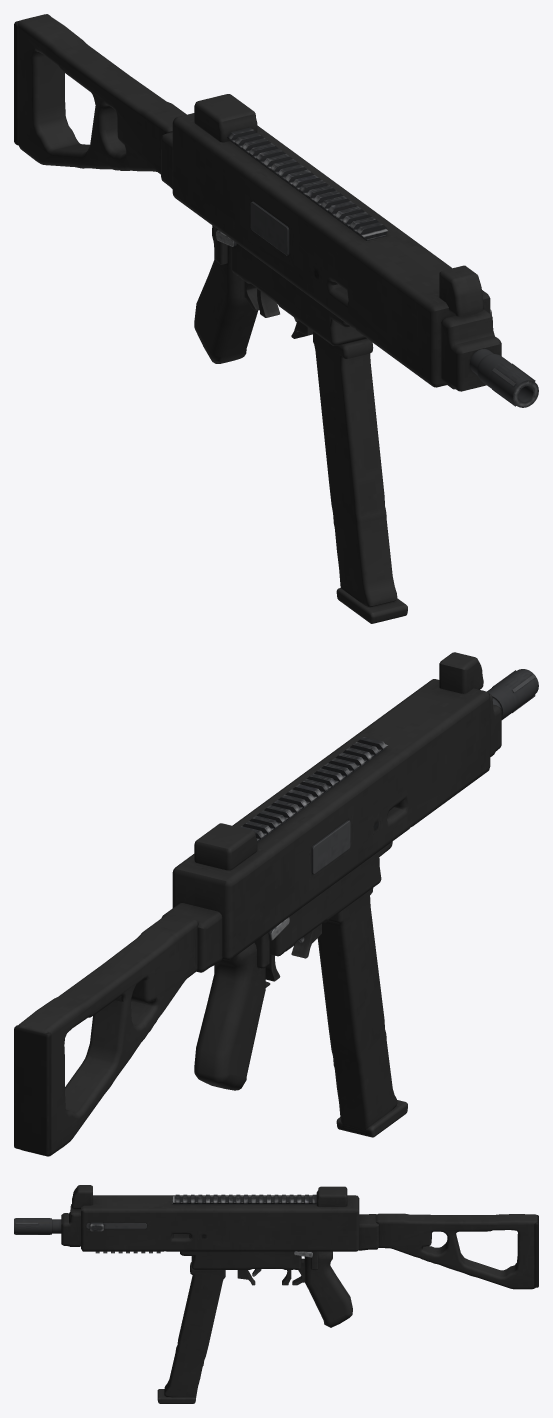
Rendered from smg_ump45.glb.
The picture shows the model from 3 angles, top to bottom: view 1: azimuth 30°, elevation 25°; view 2: azimuth 150°, elevation 25°; view 3: azimuth 270°, elevation 25°; orthographic projection. The views are drawn at different scales.
Parts seen in each view (by area): view 1: body, mag_mesh; view 2: body, mag_mesh; view 3: body, mag_mesh.
Boxes of the visible parts, x1,y1,x2,y2 form: body: (14,14,538,407); mag_mesh: (313,331,407,623); body: (14,652,538,1156); mag_mesh: (317,888,407,1137); body: (14,1185,538,1327); mag_mesh: (157,1262,225,1403).
Bounding box in the file's own units: 0.0564 × 0.307 × 0.69.
1 material, 1 textured.
